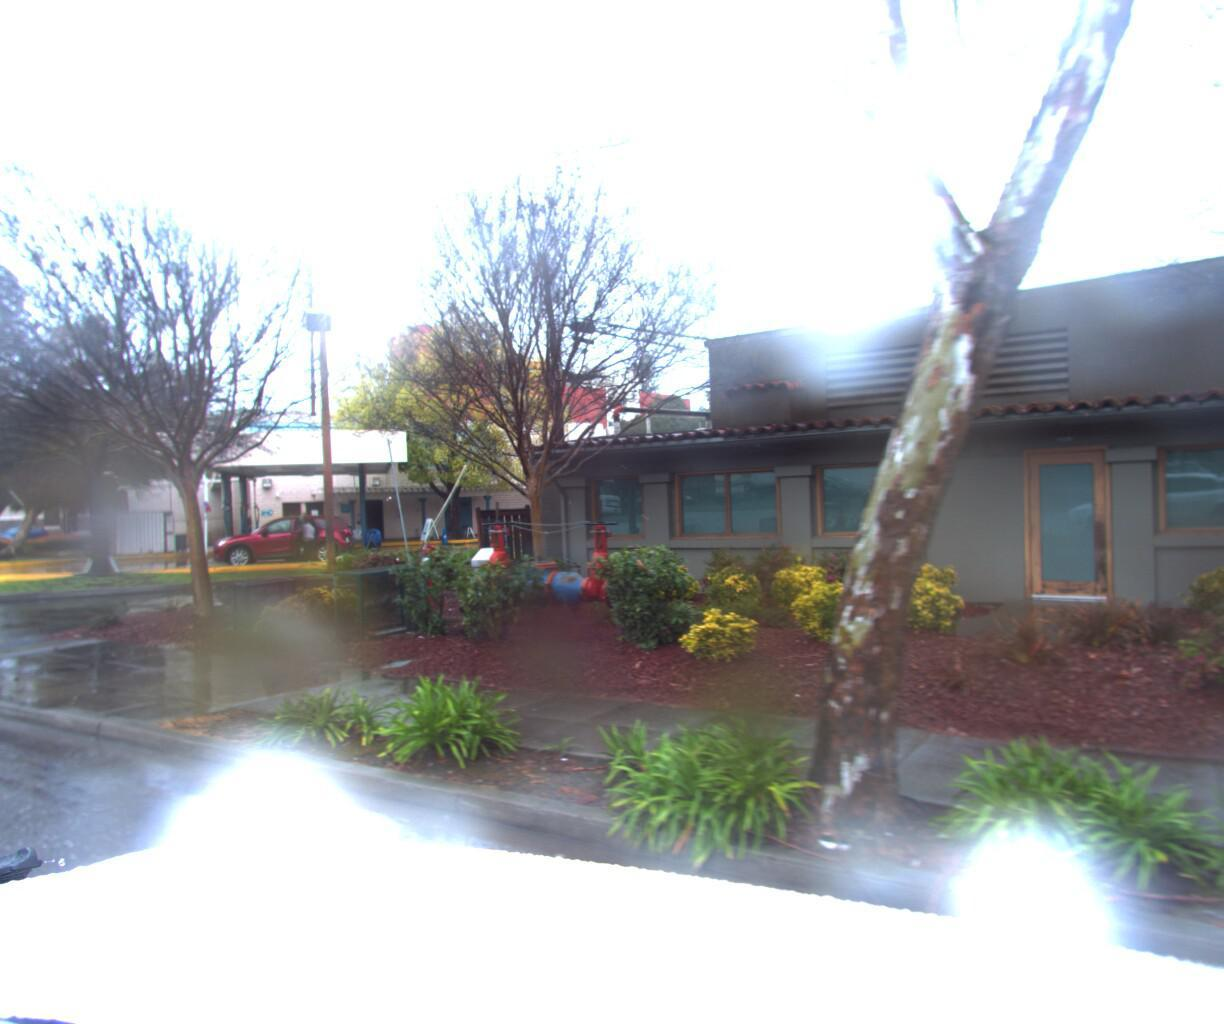bicycle: (0, 526, 11, 554)
car: (201, 509, 361, 569)
